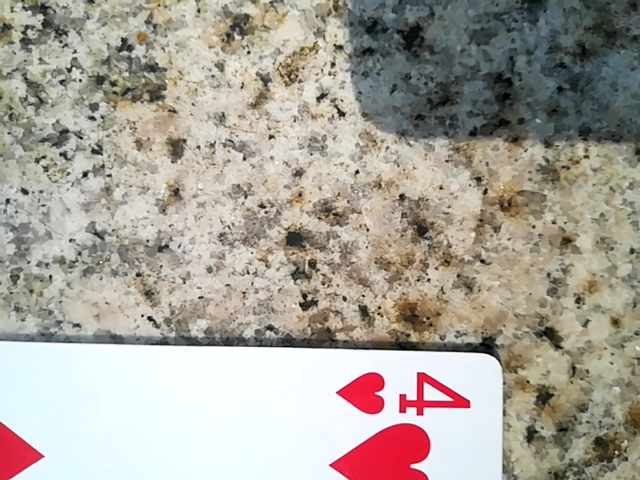hx 4: (0, 342, 516, 480)
